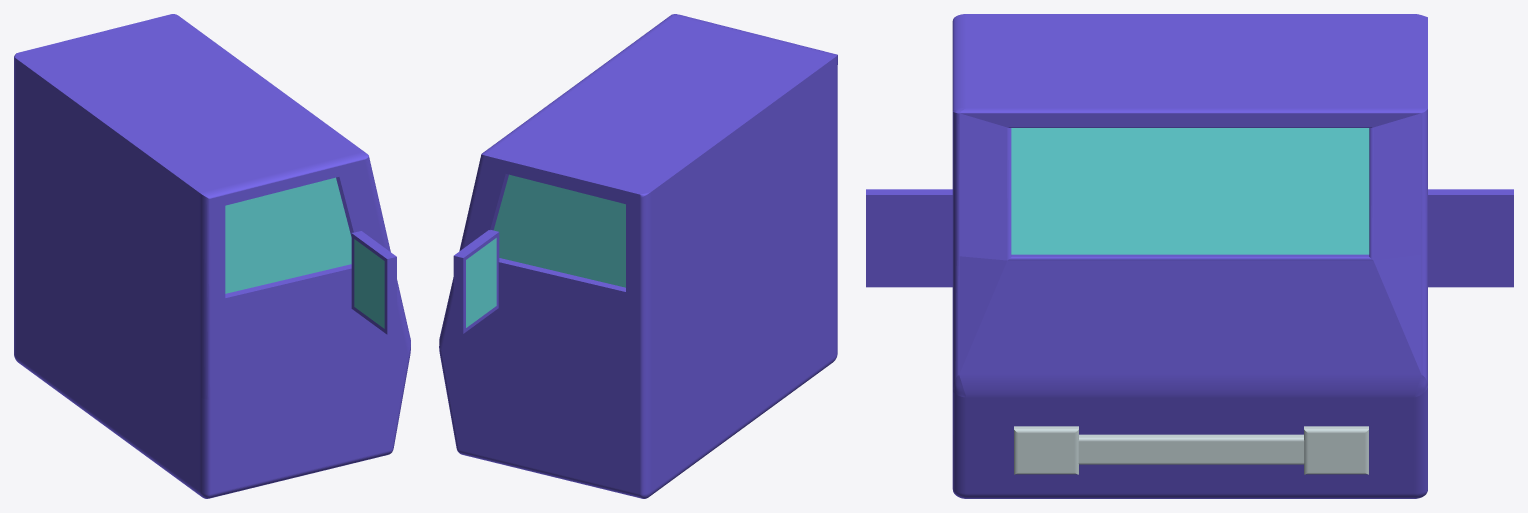
The model's file is Ciamioncino.fbx.
The picture shows the model from 3 angles, left to right: view 1: azimuth 30°, elevation 25°; view 2: azimuth 150°, elevation 25°; view 3: azimuth 270°, elevation 25°; orthographic projection. The views are drawn at different scales.
Visible parts, largest first — view 1: Cube; view 2: Cube; view 3: Cube.
Boxes of the visible parts, x1,y1,x2,y2 form: Cube: [14, 14, 410, 498]; Cube: [439, 14, 837, 498]; Cube: [866, 14, 1513, 498].
Size of the model in its own units: 218 by 305 by 477.
